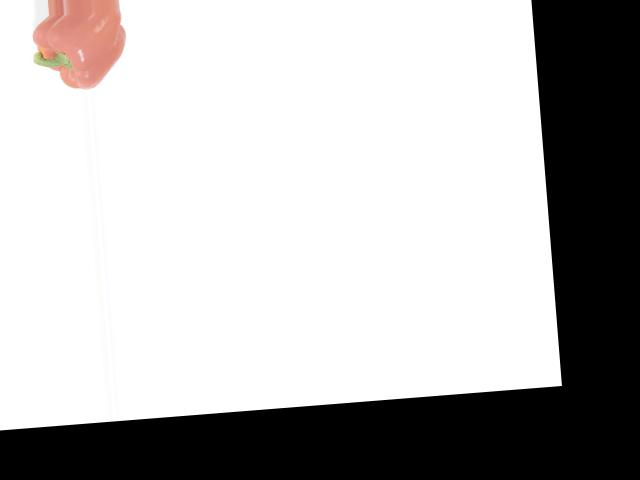bell_pepper: (17, 8, 140, 94)
